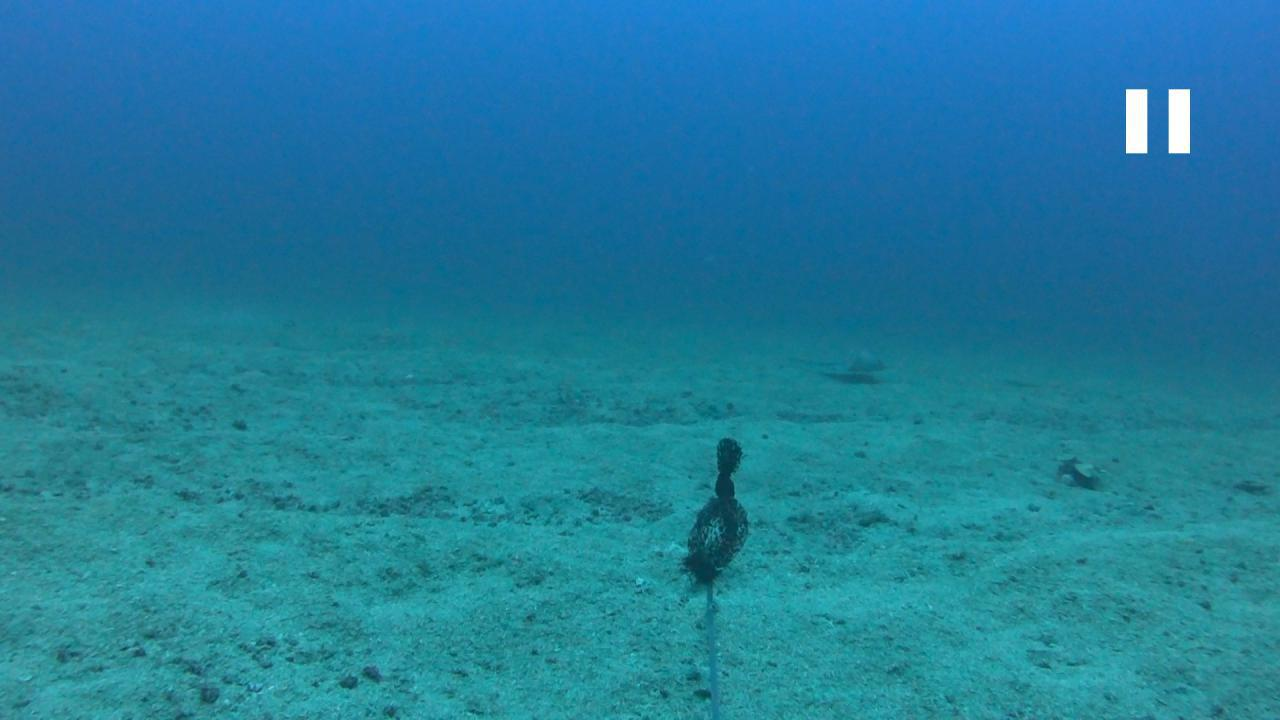dasyatis: (786, 350, 888, 376)
